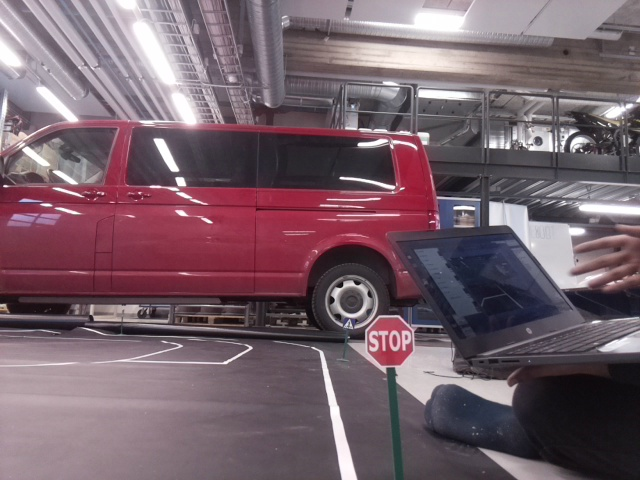Crosswalk: (343, 318, 354, 329)
Stop: (366, 313, 415, 367)
